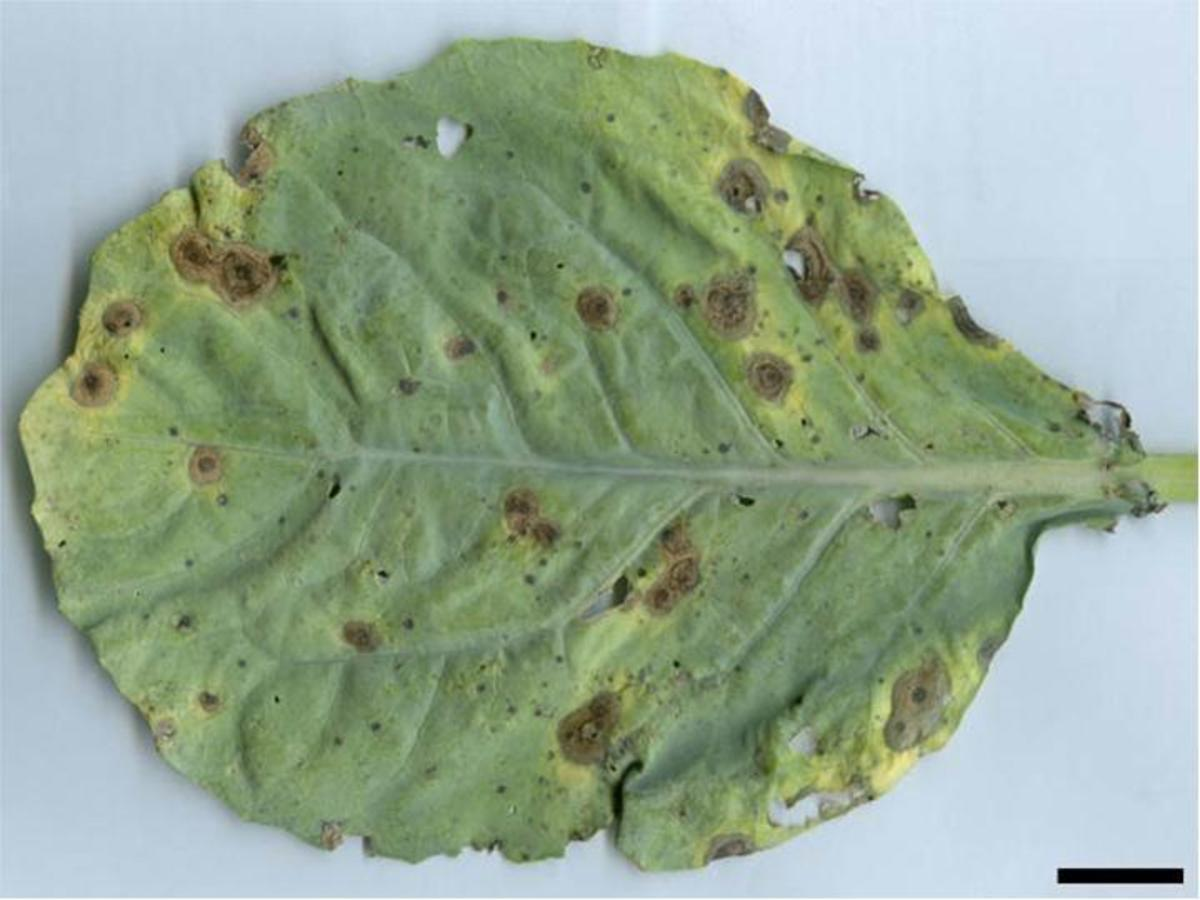black-spot: (547, 150, 822, 433)
